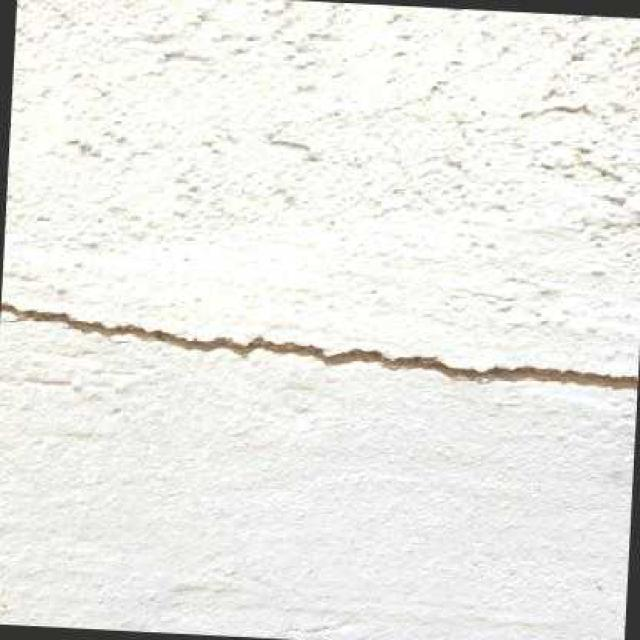D00: (0, 300, 637, 388)
